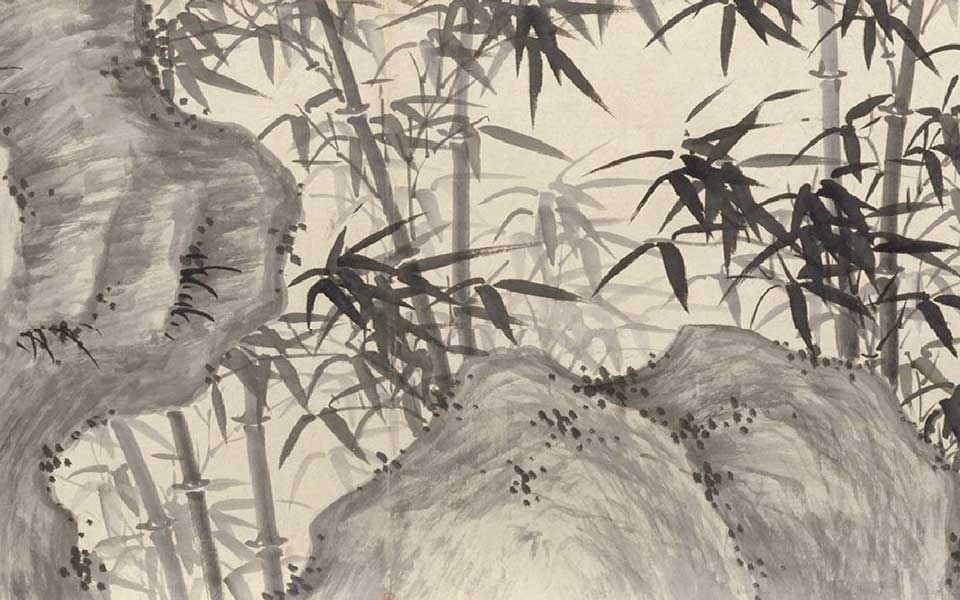bamboo: (303, 2, 960, 375), (81, 400, 292, 600)
hill: (1, 5, 298, 600), (317, 326, 957, 600)
